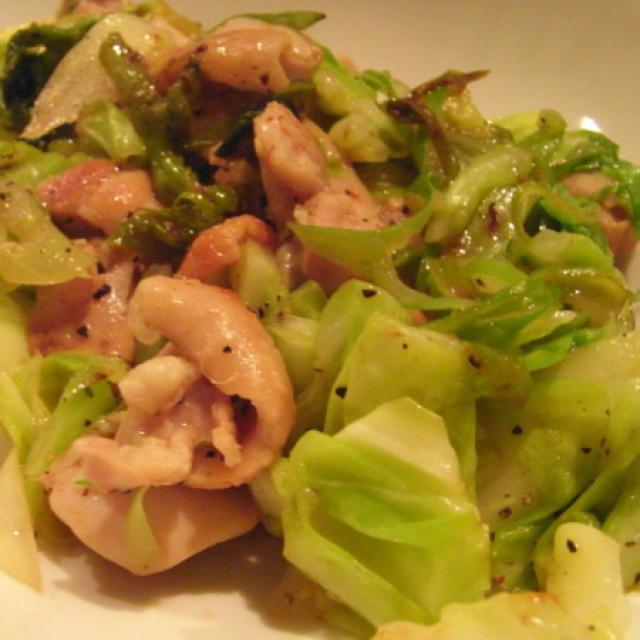蔬菜料理: (1, 0, 639, 634)
